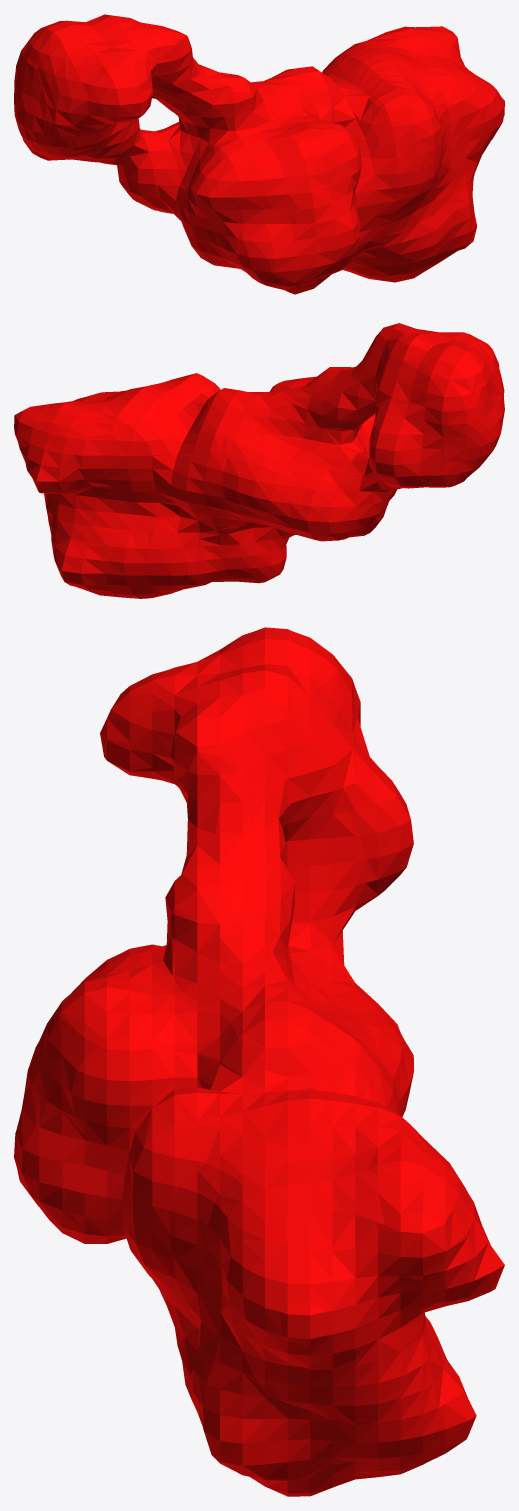
File: deoR_coarse.dae
3 renders of one model, top to bottom at view 1: azimuth 30°, elevation 25°; view 2: azimuth 150°, elevation 25°; view 3: azimuth 270°, elevation 25°, orthographic. The views are drawn at different scales.
Visible parts, largest first — view 1: deoR; view 2: deoR; view 3: deoR.
Part boxes in pixels (x1,y1,x2,y2): deoR: (14,14,504,294); deoR: (14,323,504,598); deoR: (14,627,504,1496).
Size of the model in its own units: 88.36 by 58.79 by 45.65.
